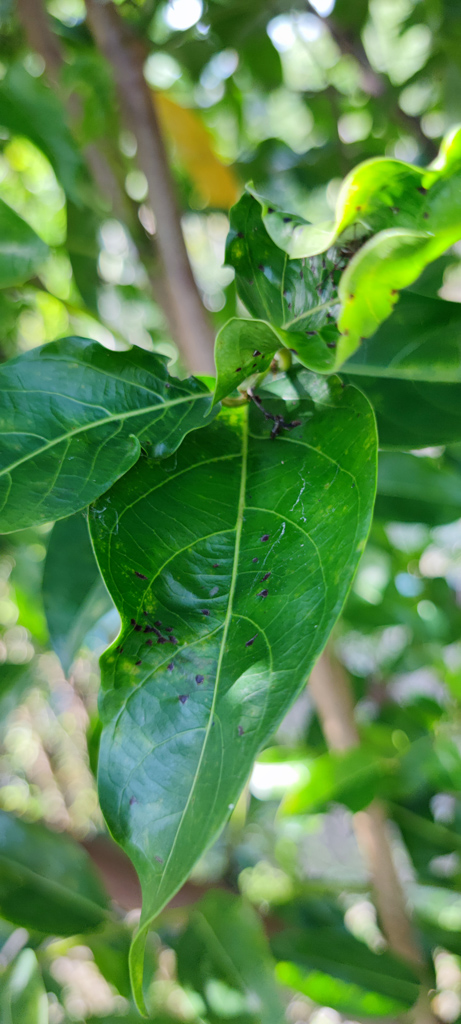Sooty mold: (110, 519, 295, 721), (117, 564, 221, 717), (242, 524, 277, 668)
